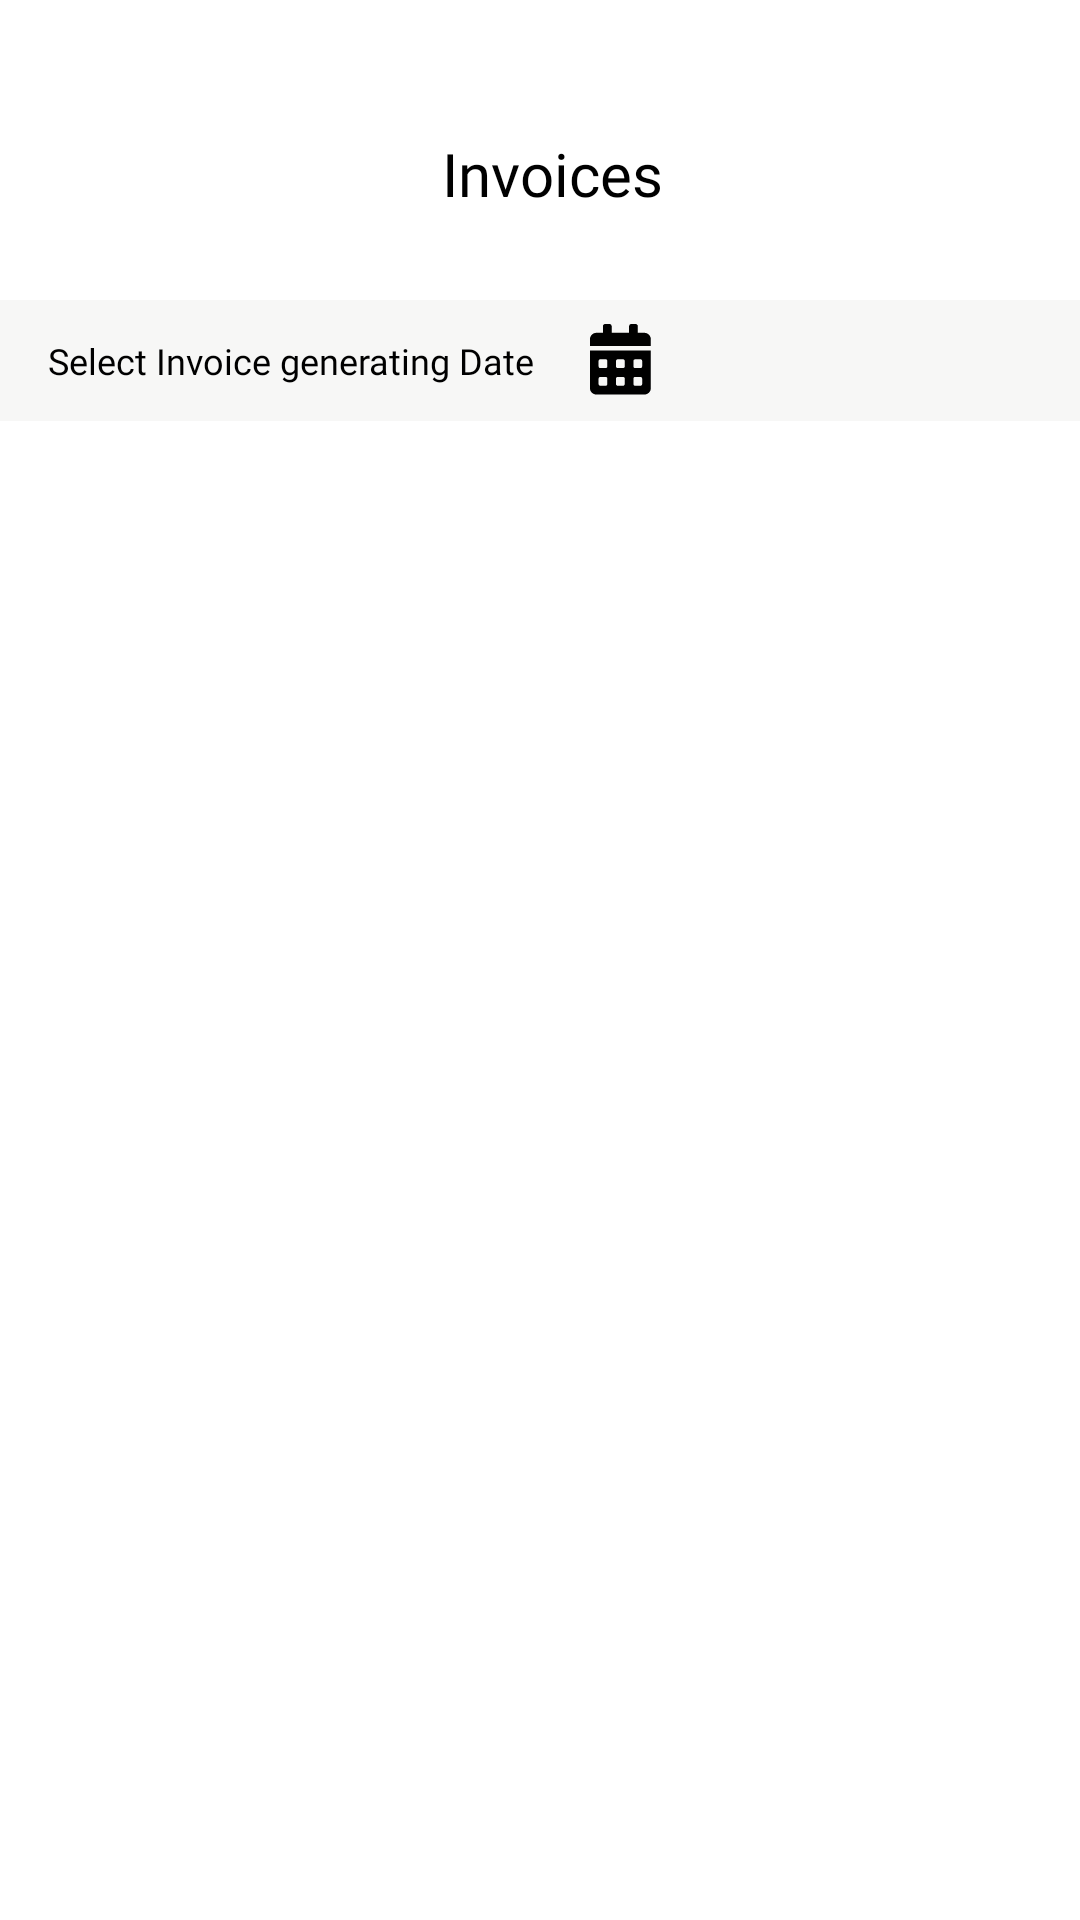

Point at icon controls on the screen. Image size 1080 x 1920, points as [x,y].
calender: [620,359]
